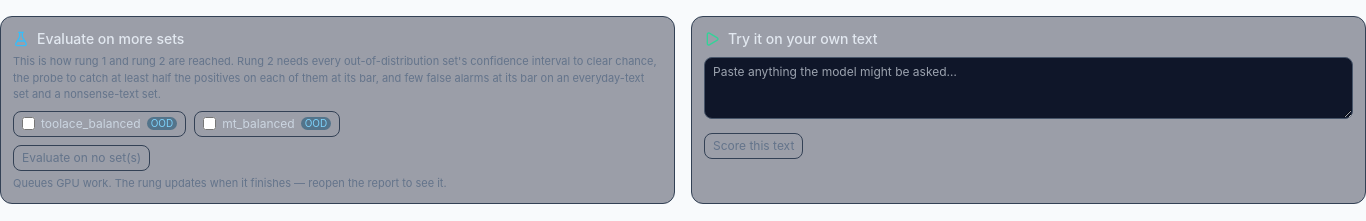
Test: a probe can be pointed at your own text, and the result is READ BACK › a FAILURE shows its reason, because an empty trace reads as "it scored nothing"
Step 1. Type "x" into the text box with test id "score-text" → [1028, 88], box [704,57,1353,119]
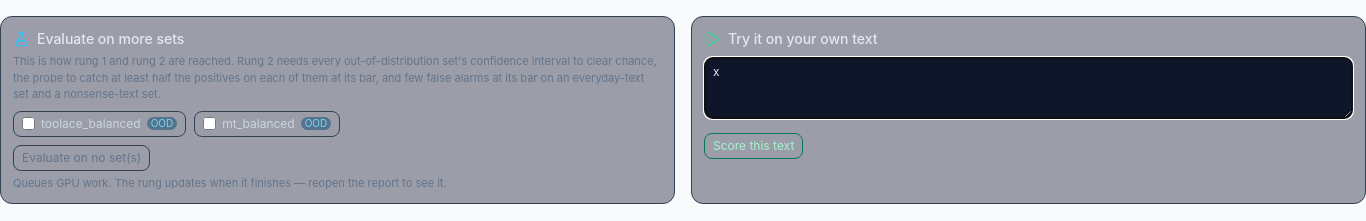
Step 2. Click the button with test id "score-submit" → [754, 146], box [704,133,803,159]
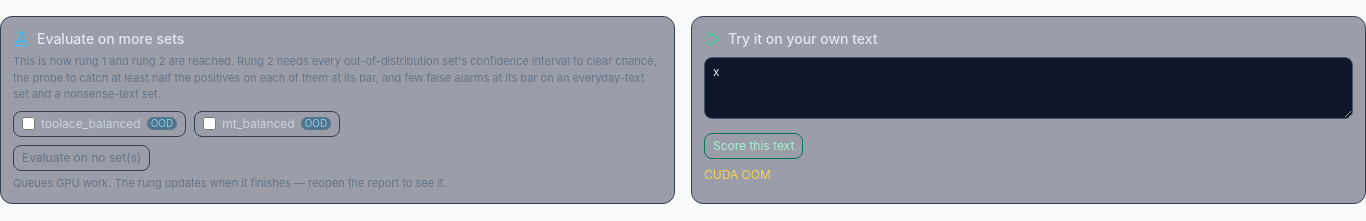
Now the element with test id "score-result" reads "CUDA OOM", box [704,167,771,182]
